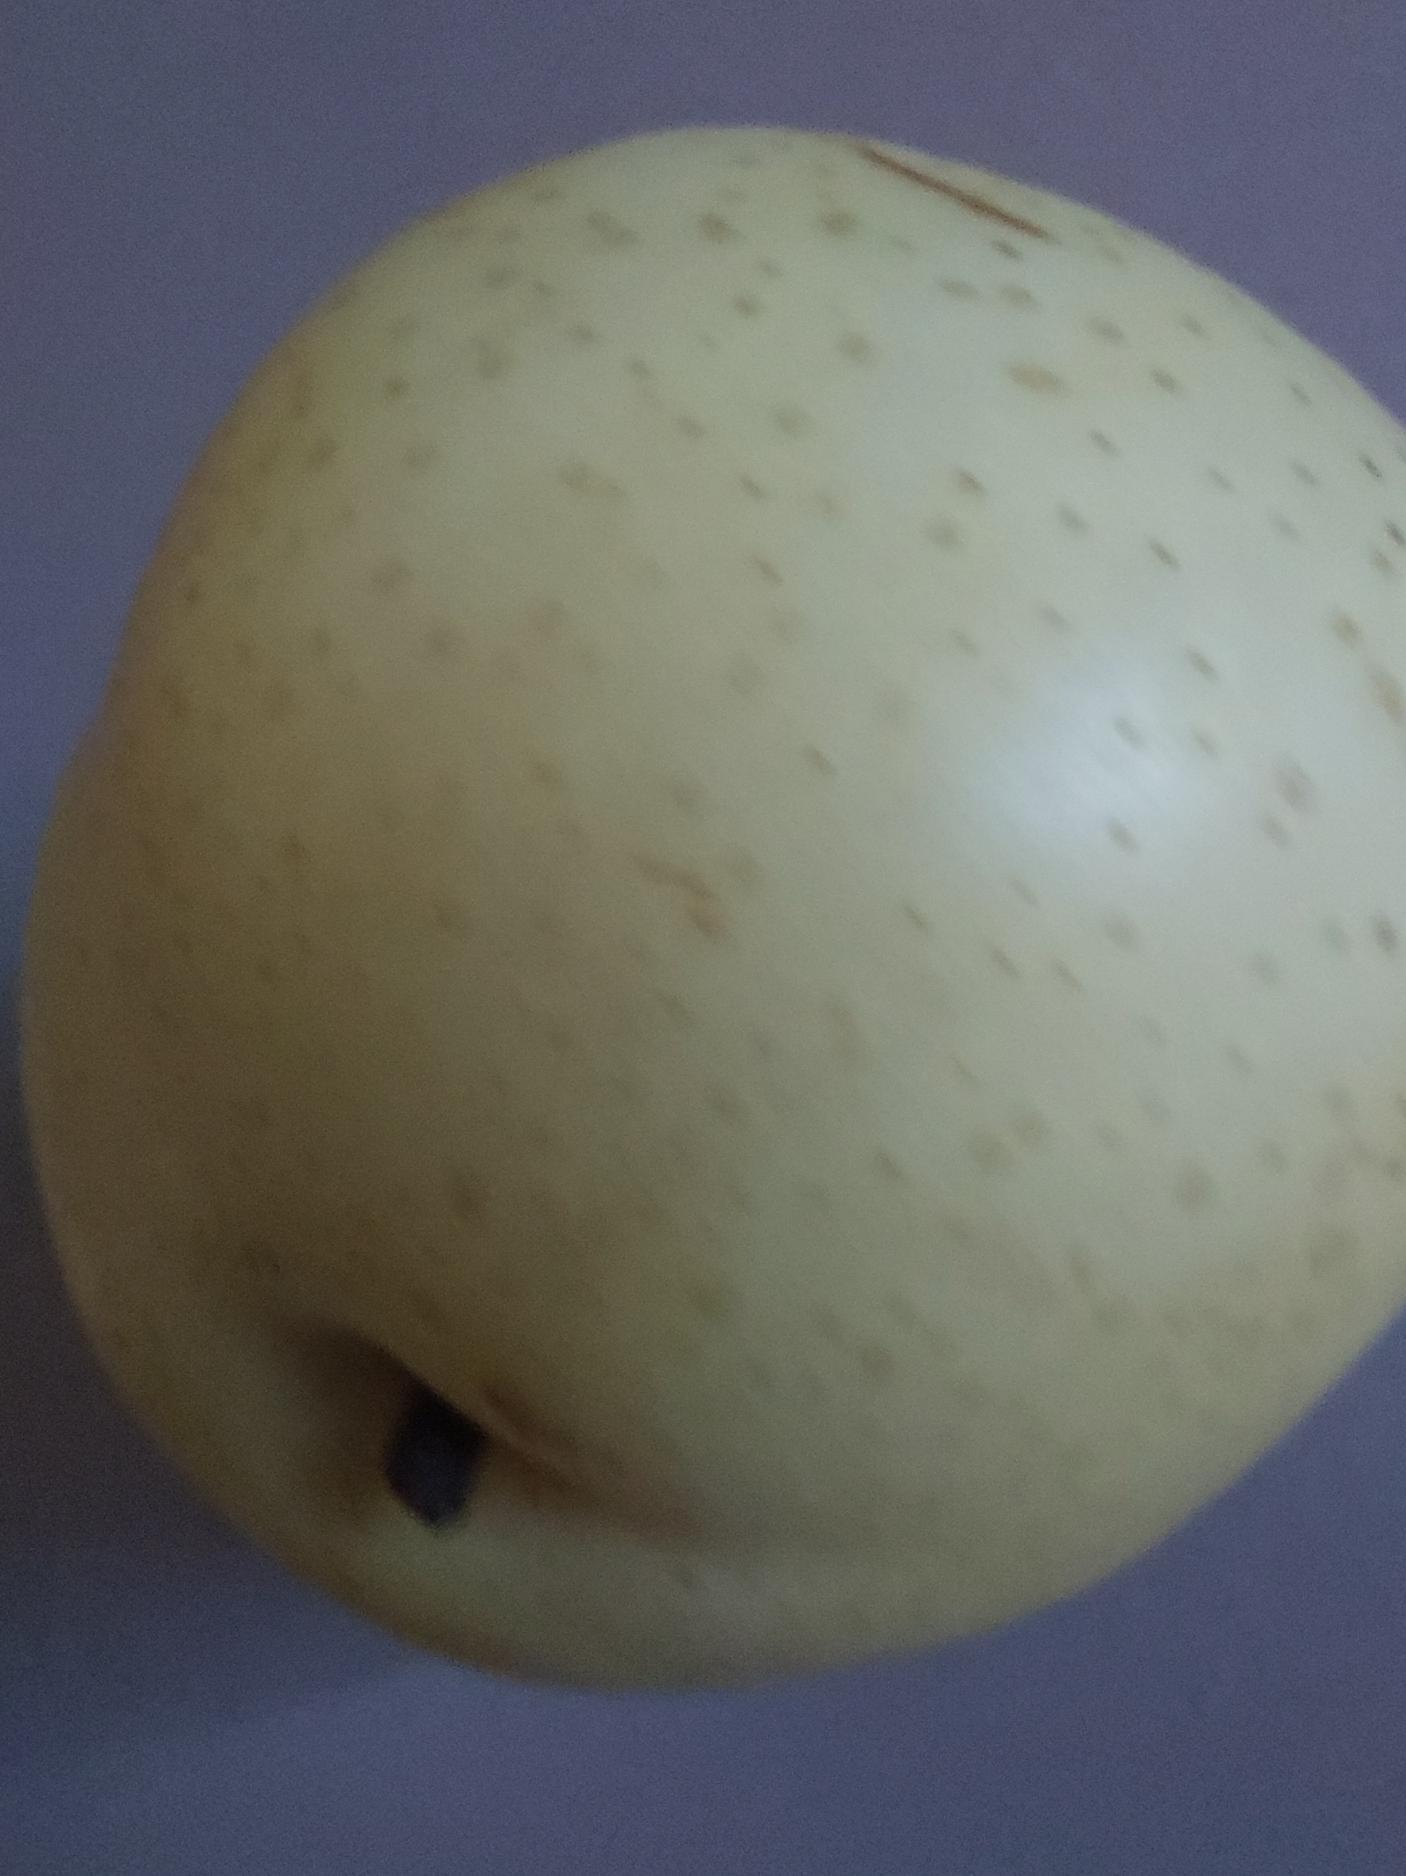Good Pear: (13, 118, 1406, 1702)
